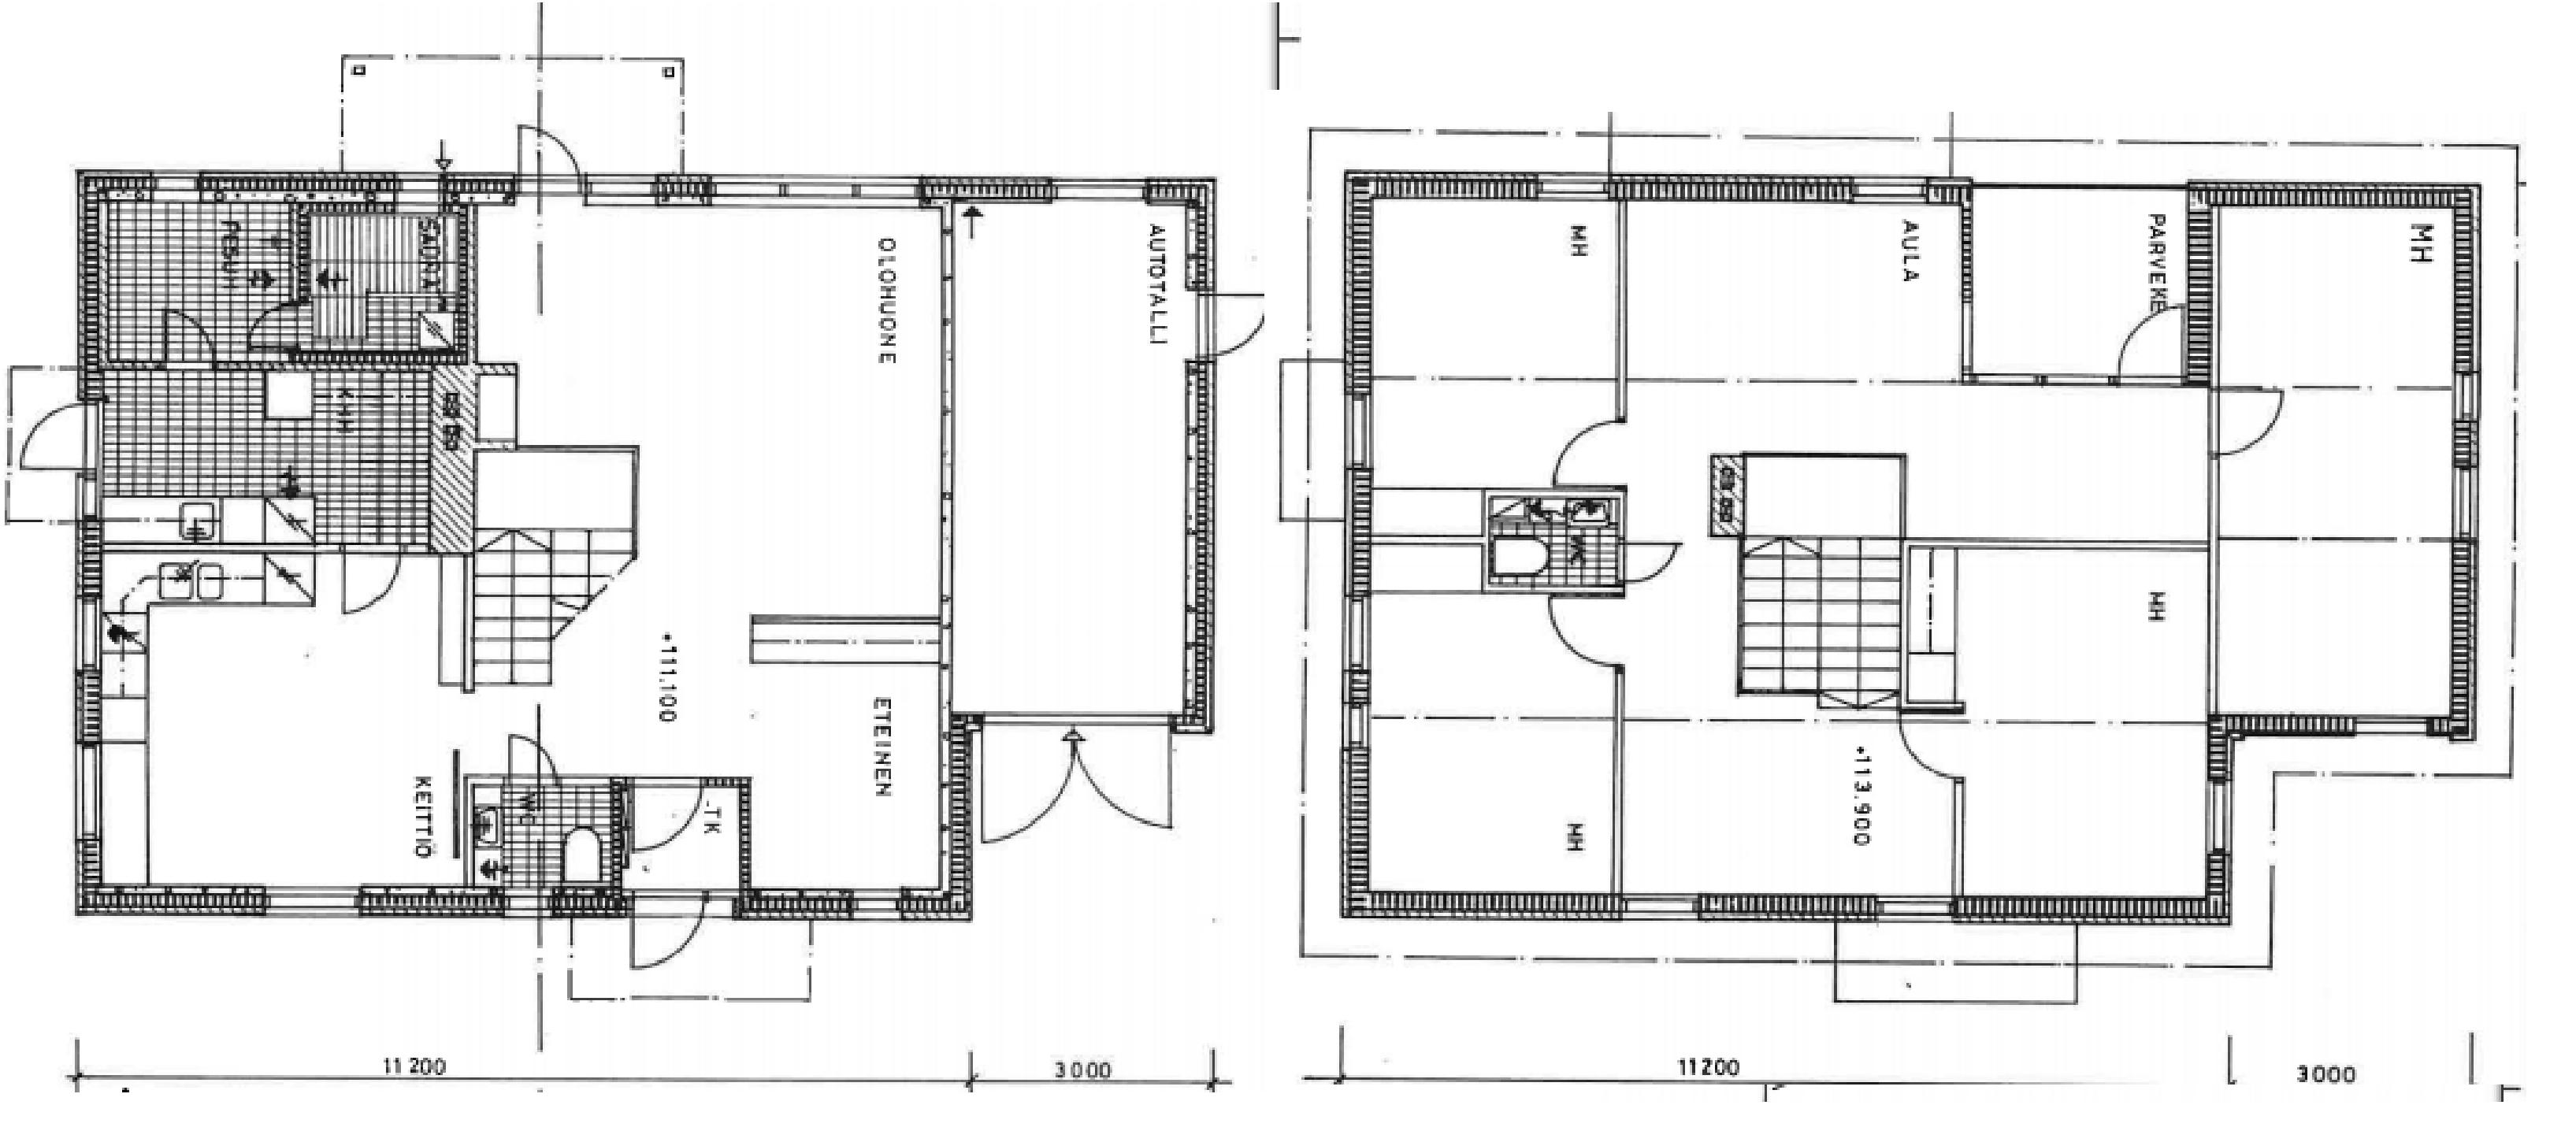door: (966, 707, 1176, 845), (18, 389, 107, 485), (621, 889, 715, 978), (1186, 279, 1278, 368), (1534, 588, 1628, 675), (629, 769, 710, 853), (2121, 297, 2188, 386), (2208, 383, 2285, 460), (1551, 416, 1631, 490), (1899, 720, 1978, 784), (233, 294, 315, 353), (498, 726, 567, 794), (513, 120, 577, 192), (343, 539, 404, 615), (166, 304, 223, 371), (1618, 536, 1681, 585)
window: (716, 179, 920, 205), (1048, 174, 1142, 205), (74, 738, 103, 836), (1876, 889, 1952, 927), (266, 887, 348, 919), (393, 171, 452, 214), (2205, 771, 2236, 851), (1620, 891, 1699, 922), (1342, 590, 1373, 665), (1843, 174, 1919, 204), (590, 174, 657, 204), (149, 166, 199, 204), (1350, 386, 1373, 460), (2443, 465, 2472, 521), (2357, 713, 2433, 734), (1539, 174, 1595, 202), (77, 601, 100, 662), (856, 886, 894, 922), (2453, 365, 2477, 411), (77, 473, 105, 511), (1344, 702, 1368, 743)
zone: (1643, 189, 2196, 900), (470, 192, 925, 892), (97, 539, 488, 882), (956, 184, 1194, 705), (2216, 197, 2446, 705), (1899, 532, 2201, 894), (1365, 196, 1617, 486), (1370, 593, 1613, 889), (95, 368, 468, 544), (1967, 181, 2188, 376), (102, 173, 297, 350), (570, 897, 807, 989), (1368, 488, 1607, 575), (314, 196, 452, 342), (475, 776, 614, 873), (619, 785, 743, 886)
